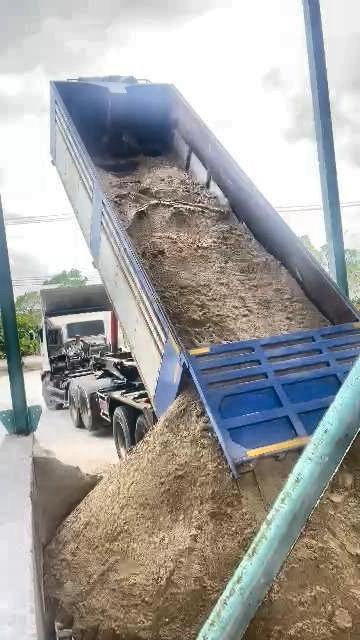sand: (46, 390, 295, 639), (102, 159, 327, 346), (247, 442, 360, 639), (34, 442, 114, 545)
